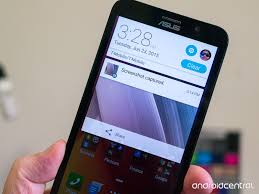asus: (52, 1, 230, 194)
